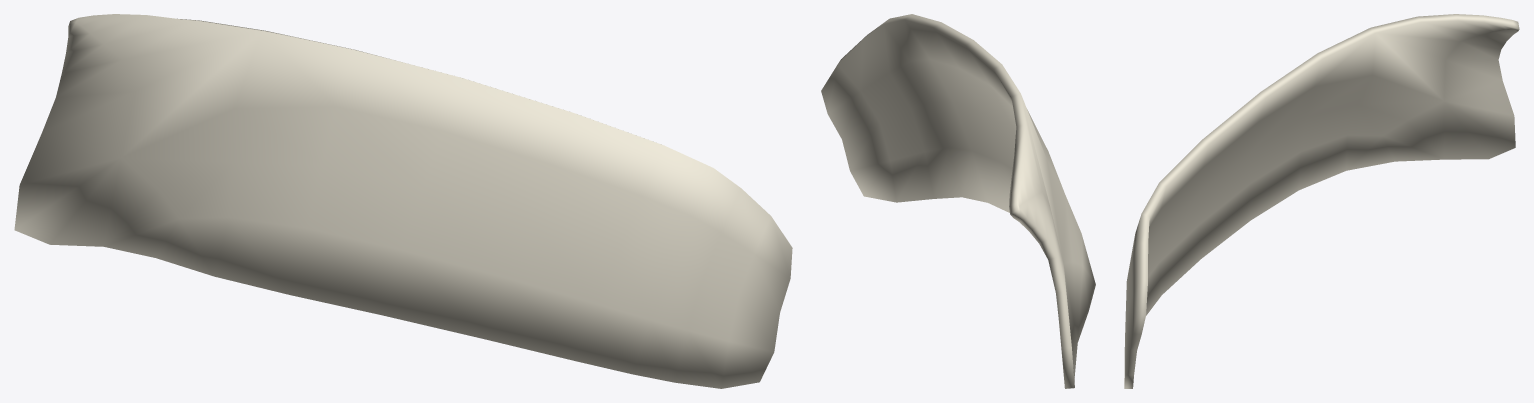
3 views of the same model, side by side, from view 1: azimuth 30°, elevation 25°; view 2: azimuth 150°, elevation 25°; view 3: azimuth 270°, elevation 25° (orthographic). The views are drawn at different scales.
Parts seen in each view (by area): view 1: ZA_68c149b618cb55ff; view 2: ZA_68c149b618cb55ff; view 3: ZA_68c149b618cb55ff.
Part boxes in pixels (x1,y1,x2,y2): ZA_68c149b618cb55ff: (14,14,792,388); ZA_68c149b618cb55ff: (821,14,1095,388); ZA_68c149b618cb55ff: (1124,14,1519,388).
Size of the model in its own units: 0.0269 by 0.0152 by 0.0229.
